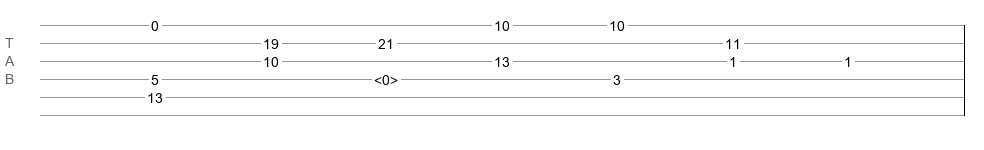0: (151, 18, 159, 28)
1: (729, 54, 737, 64), (844, 54, 852, 64)
10: (263, 54, 279, 64), (494, 18, 510, 28), (609, 18, 625, 28)
11: (725, 36, 741, 46)
13: (147, 90, 163, 100), (494, 54, 510, 64)
19: (263, 36, 279, 46)
21: (378, 36, 394, 46)
3: (613, 72, 621, 82)
5: (151, 72, 159, 82)
harmonic: (374, 72, 398, 82)
